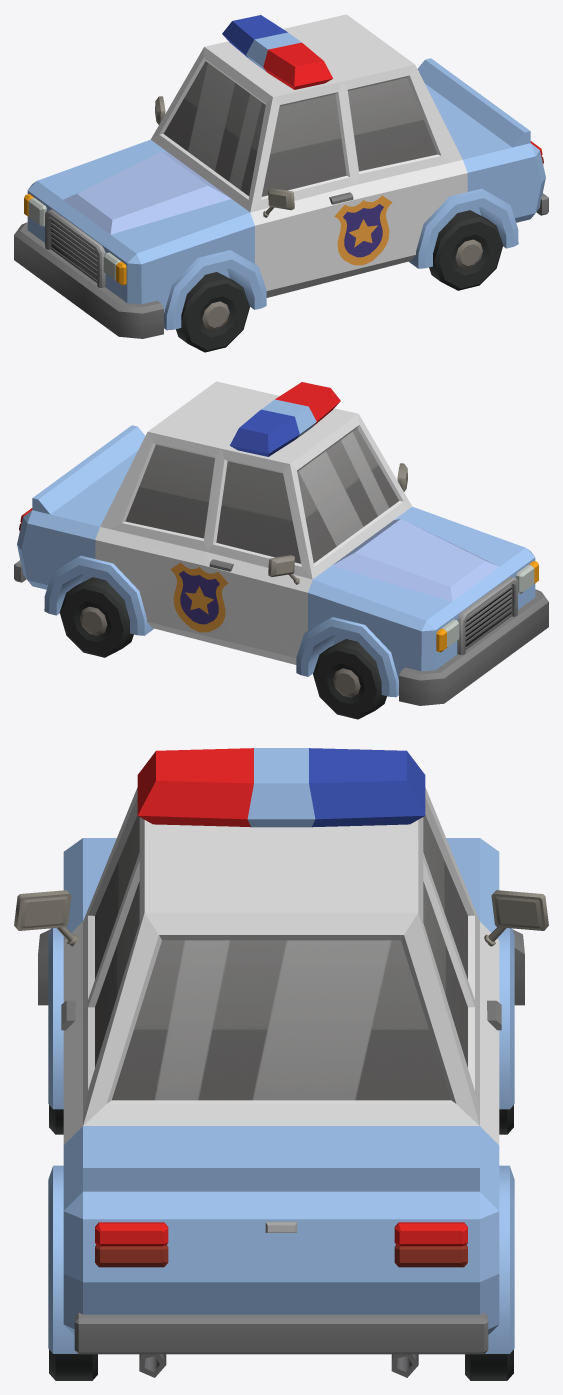
Rendered from Car_Police_2_B_1.fbx.
The picture shows the model from 3 angles, top to bottom: view 1: azimuth 30°, elevation 25°; view 2: azimuth 150°, elevation 25°; view 3: azimuth 270°, elevation 25°; orthographic projection. The views are drawn at different scales.
Parts seen in each view (by area): view 1: Car_Police_2_B_1, RL, FL; view 2: Car_Police_2_B_1, RR, FR; view 3: Car_Police_2_B_1, RL, RR.
Part boxes in pixels (box(x1,y1,x2,y2)): Car_Police_2_B_1: box(14, 14, 548, 338); RL: box(429, 210, 503, 290); FL: box(176, 272, 249, 352); Car_Police_2_B_1: box(14, 381, 548, 705); RR: box(59, 577, 133, 657); FR: box(313, 639, 386, 719); Car_Police_2_B_1: box(14, 748, 548, 1377); RL: box(49, 1349, 97, 1380); RR: box(465, 1349, 513, 1380).
Size of the model in its own units: 331 by 175 by 178.
